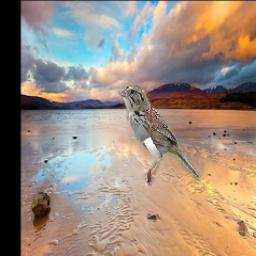Sparrow: (117, 83, 201, 186)
